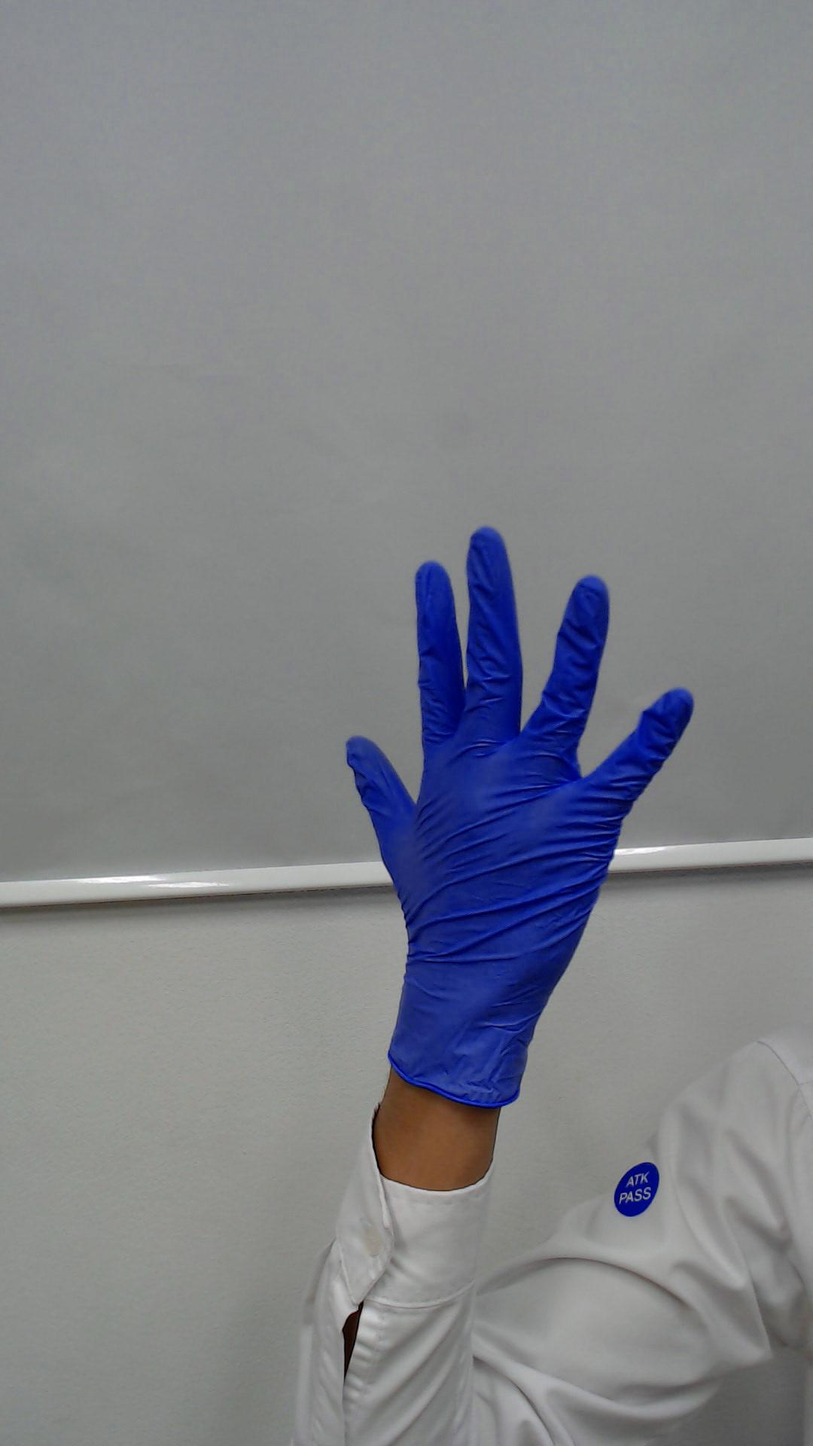gloves: (297, 480, 723, 975)
